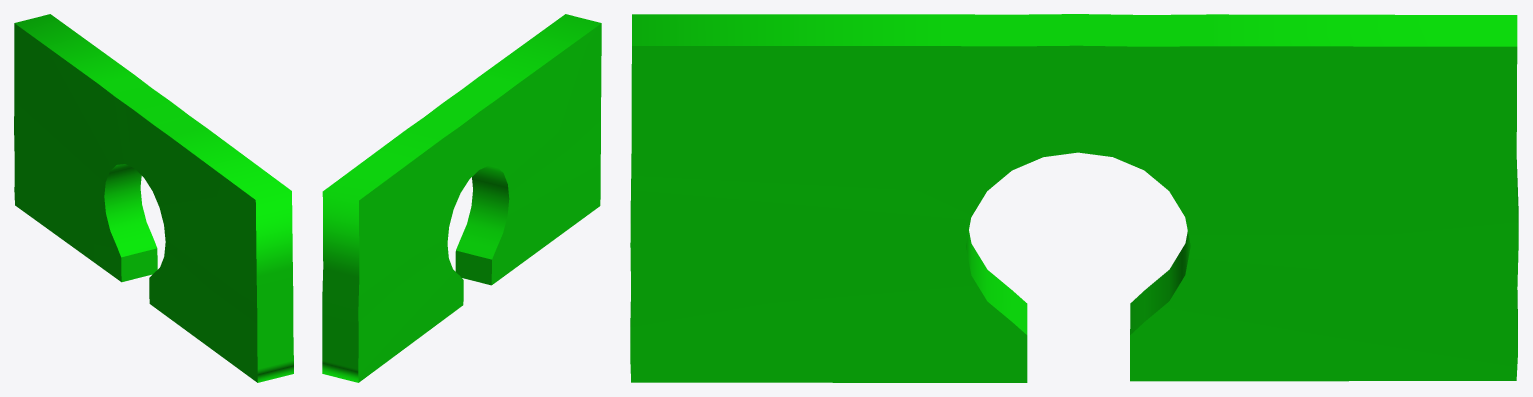
The model's file is green circle wall.fbx.
The picture shows the model from 3 angles, left to right: view 1: azimuth 30°, elevation 25°; view 2: azimuth 150°, elevation 25°; view 3: azimuth 270°, elevation 25°; orthographic projection. The views are drawn at different scales.
Parts seen in each view (by area): view 1: pPipe1; view 2: pPipe1; view 3: pPipe1.
Boxes of the visible parts, box(x1,y1,x2,y2) form: pPipe1: box(14, 14, 293, 382); pPipe1: box(322, 14, 601, 382); pPipe1: box(630, 14, 1518, 382).
Size of the model in its own units: 0.1843 by 0.8504 by 2.04.
